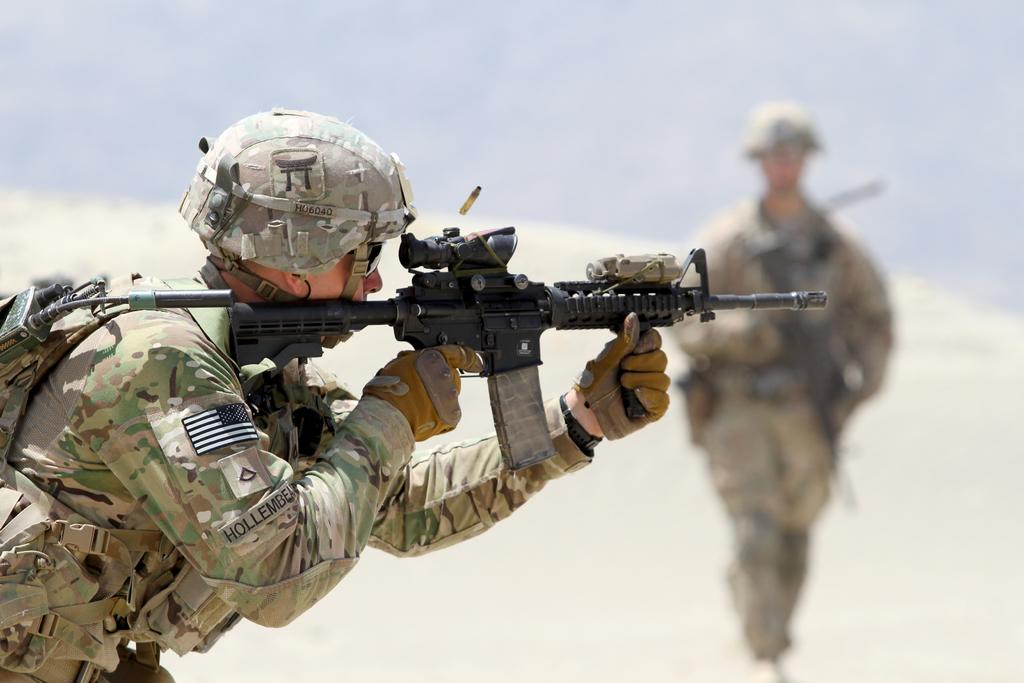Rifle: (125, 224, 821, 465)
